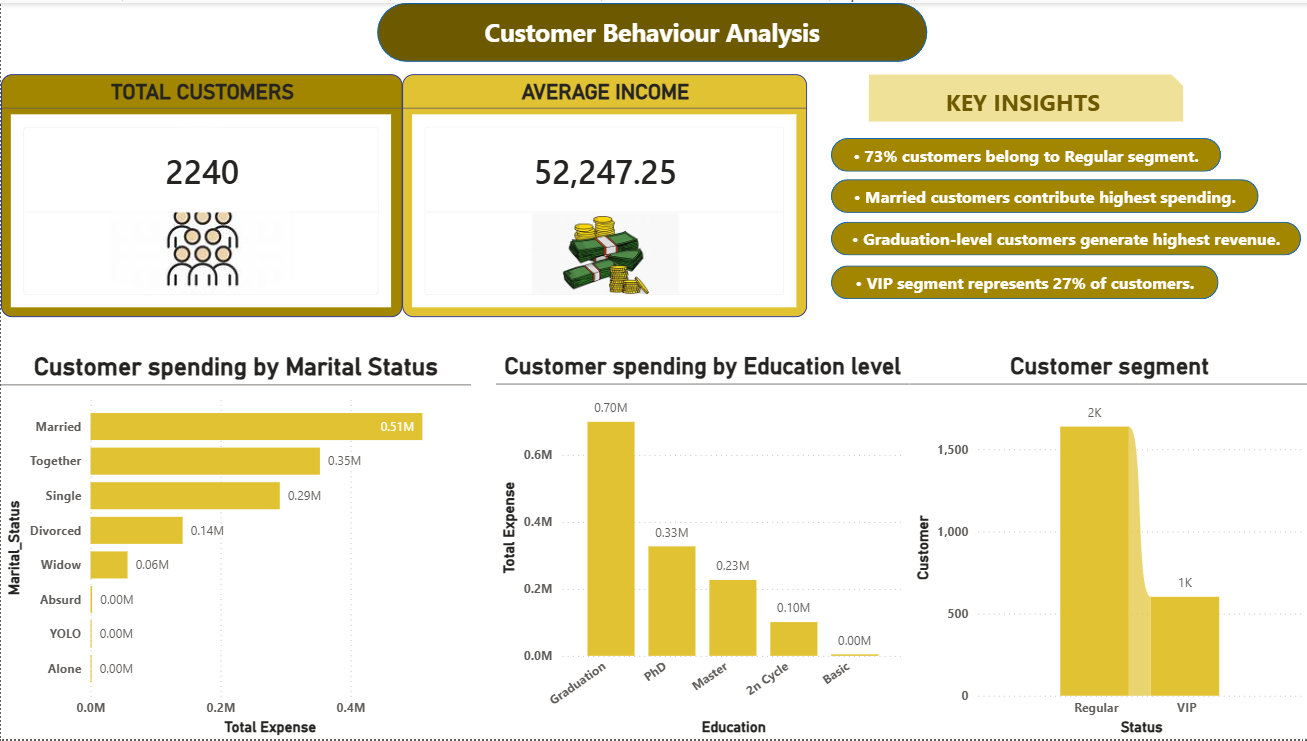

Layout of this report page (visuals, bound fields, positions):
{"tool":"powerbi","page":{"name":"Page 1","canvas":[1280,720],"ordinal":0},"visuals":[{"type":"cardVisual","title":"TOTAL CUSTOMERS","fields":{"Data":["marketing_campaign.tot_cus"]},"box":[0,69.7,392.5,237.2],"z":0},{"type":"cardVisual","title":"AVERAGE INCOME","fields":{"Data":["marketing_campaign.Avg_inc"]},"box":[392.5,69.7,396.2,237.2],"z":1000},{"type":"columnChart","title":"Highest Education Qualification","fields":{"Category":["marketing_campaign.Education"],"Y":["Sum(marketing_campaign.Year_Birth)"]},"box":[823,359.5,447.6,344.8],"z":2000},{"type":"barChart","title":"Total_expense by Marital_Status","fields":{"Category":["marketing_campaign.Marital_Status"],"Y":["Sum(marketing_campaign.total_expense)"]},"box":[14.7,325.3,774.1,379.1],"z":2001},{"type":"columnChart","title":"Customer segment","fields":{"Category":["marketing_campaign.status"],"Y":["CountNonNull(marketing_campaign.Education)"]},"box":[823,57.5,447.6,282.5],"z":2002},{"type":"shape","box":[368.1,0,538,57.5],"z":2003}]}

Visuals, with their boxes in screenshot pixels (x1, y1, x2, y2), scaled from the page's 1280x720 canvas onto the 1307x741 screenshot:
"TOTAL CUSTOMERS" cardVisual: region(0, 72, 401, 316)
"AVERAGE INCOME" cardVisual: region(401, 72, 805, 316)
"Highest Education Qualification" columnChart: region(840, 370, 1297, 725)
"Total_expense by Marital_Status" barChart: region(15, 335, 805, 725)
"Customer segment" columnChart: region(840, 59, 1297, 350)
shape: region(376, 0, 925, 59)
